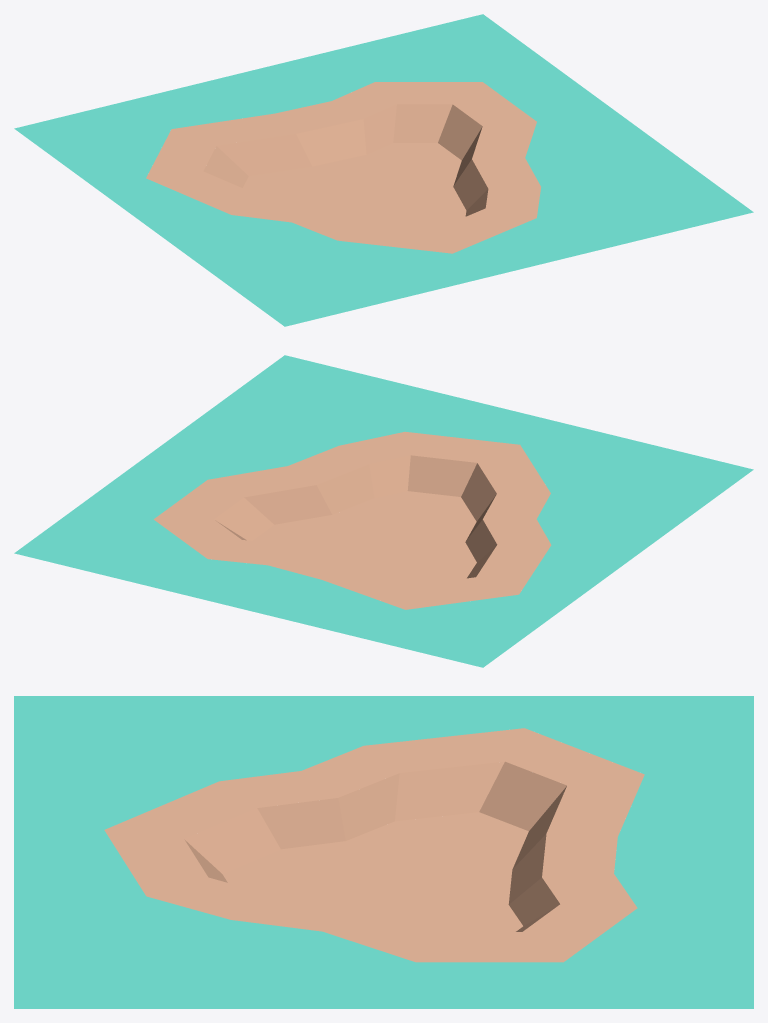
The model's file is ground_pathTile.glb.
The picture shows the model from 3 angles, top to bottom: view 1: azimuth 30°, elevation 25°; view 2: azimuth 150°, elevation 25°; view 3: azimuth 270°, elevation 25°; orthographic projection. The views are drawn at different scales.
Visible parts, largest first — view 1: ground_pathTile; view 2: ground_pathTile; view 3: ground_pathTile.
Boxes of the visible parts, x1=… form: ground_pathTile: x1=14, y1=14, x2=753, y2=326; ground_pathTile: x1=14, y1=355, x2=753, y2=667; ground_pathTile: x1=14, y1=696, x2=753, y2=1008.
Bounding box in the file's own units: 1 × 0.05 × 1.
